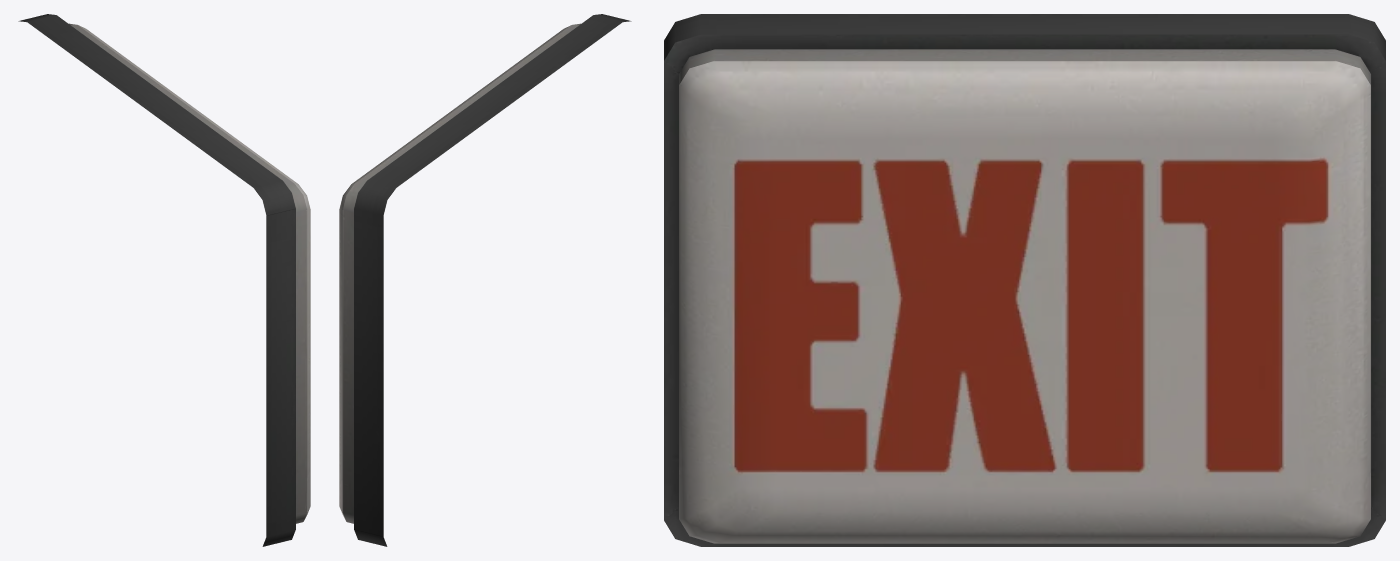
The picture shows the model from 3 angles, left to right: view 1: azimuth 30°, elevation 25°; view 2: azimuth 150°, elevation 25°; view 3: azimuth 270°, elevation 25°; orthographic projection. The views are drawn at different scales.
Visible parts, largest first — view 1: body0_model0_lod0_mesh0; view 2: body0_model0_lod0_mesh0; view 3: body0_model0_lod0_mesh0.
Boxes of the visible parts, x1,y1,x2,y2 form: body0_model0_lod0_mesh0: (18, 14, 310, 546); body0_model0_lod0_mesh0: (339, 14, 631, 546); body0_model0_lod0_mesh0: (664, 14, 1385, 546).
Size of the model in its own units: 4.47 by 24.45 by 31.2.
1 material, 1 textured.
